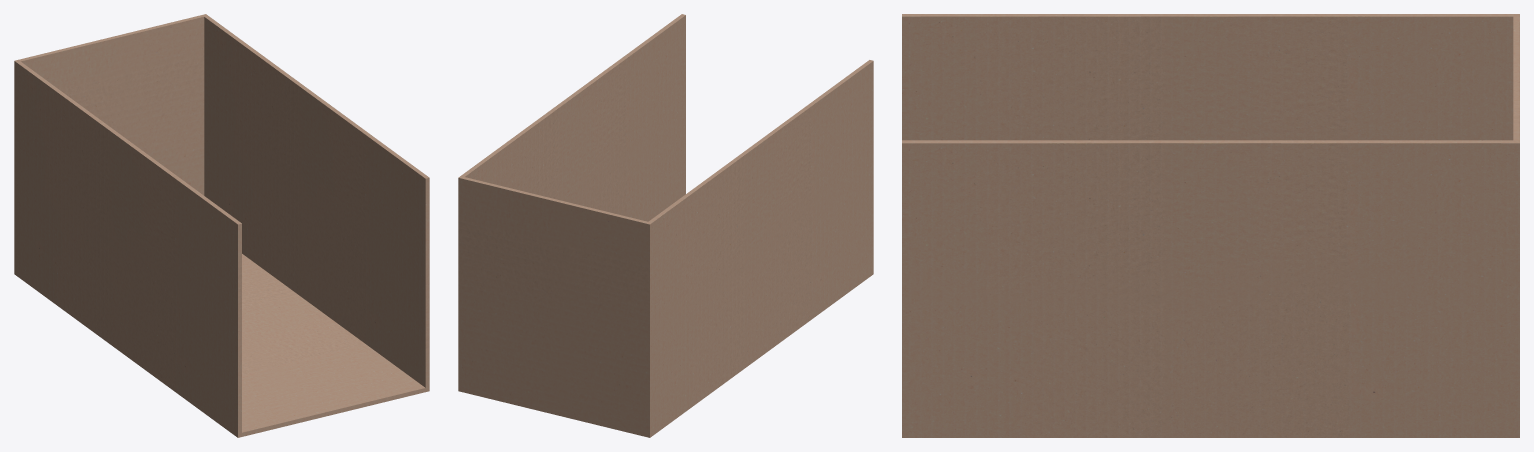
File: Box_PlaticSmall.fbx
3 views of the same model, side by side, from view 1: azimuth 30°, elevation 25°; view 2: azimuth 150°, elevation 25°; view 3: azimuth 270°, elevation 25° (orthographic). The views are drawn at different scales.
Visible parts, largest first — view 1: Box_PlaticSmall; view 2: Box_PlaticSmall; view 3: Box_PlaticSmall.
Boxes of the visible parts, x1,y1,x2,y2 form: Box_PlaticSmall: [14, 14, 429, 437]; Box_PlaticSmall: [458, 14, 873, 437]; Box_PlaticSmall: [902, 14, 1519, 437].
Size of the model in its own units: 9.4 by 10 by 19.
